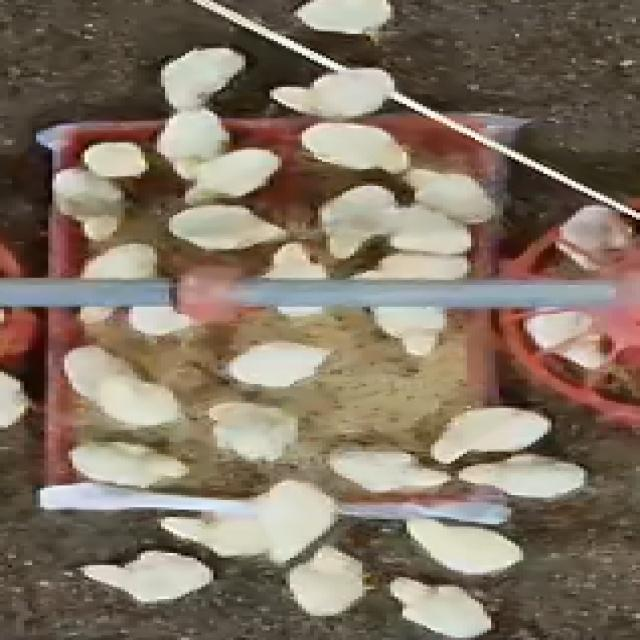broiler: (254, 481, 334, 563), (81, 551, 209, 601), (431, 408, 547, 461), (270, 68, 390, 116), (411, 519, 519, 572), (459, 454, 584, 498), (318, 184, 394, 256), (394, 577, 487, 635), (286, 546, 362, 613), (68, 442, 185, 485), (555, 205, 632, 270), (189, 147, 278, 203), (169, 205, 282, 249), (52, 167, 121, 239), (161, 48, 242, 109), (302, 123, 403, 171), (330, 449, 447, 490), (157, 109, 225, 176), (225, 341, 326, 386), (523, 312, 604, 367), (382, 203, 467, 254), (217, 403, 294, 459), (415, 169, 495, 222), (97, 374, 177, 425), (161, 519, 266, 555), (64, 345, 129, 398), (374, 307, 443, 355), (294, 0, 390, 34), (358, 254, 463, 278), (81, 244, 153, 278), (262, 242, 322, 278), (81, 307, 109, 321), (278, 307, 318, 314)
pipe: (225, 280, 612, 307), (0, 278, 173, 304)
rice: (499, 225, 636, 427)
